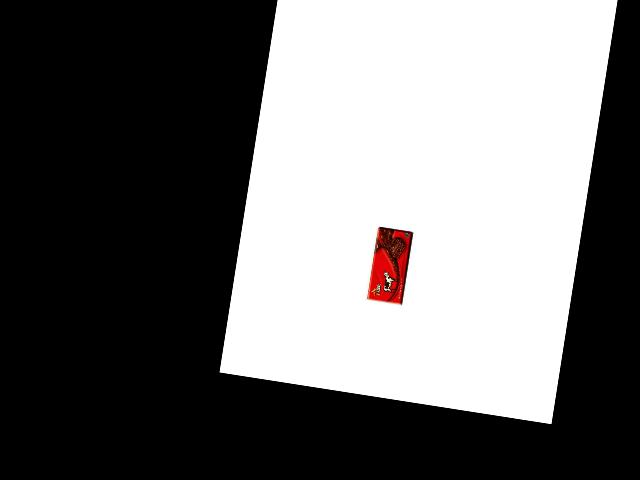chocolate: (365, 224, 417, 308)
